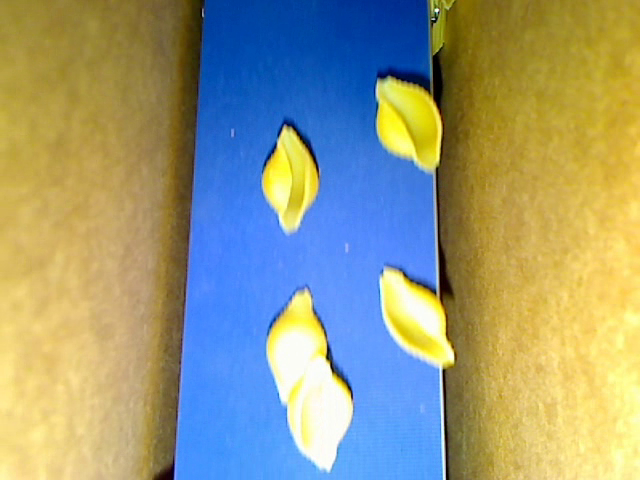penne: (429, 1, 448, 58), (439, 1, 457, 14)
shell: (284, 354, 354, 469), (267, 284, 331, 407), (378, 266, 455, 368), (257, 122, 320, 238), (372, 77, 443, 173)
